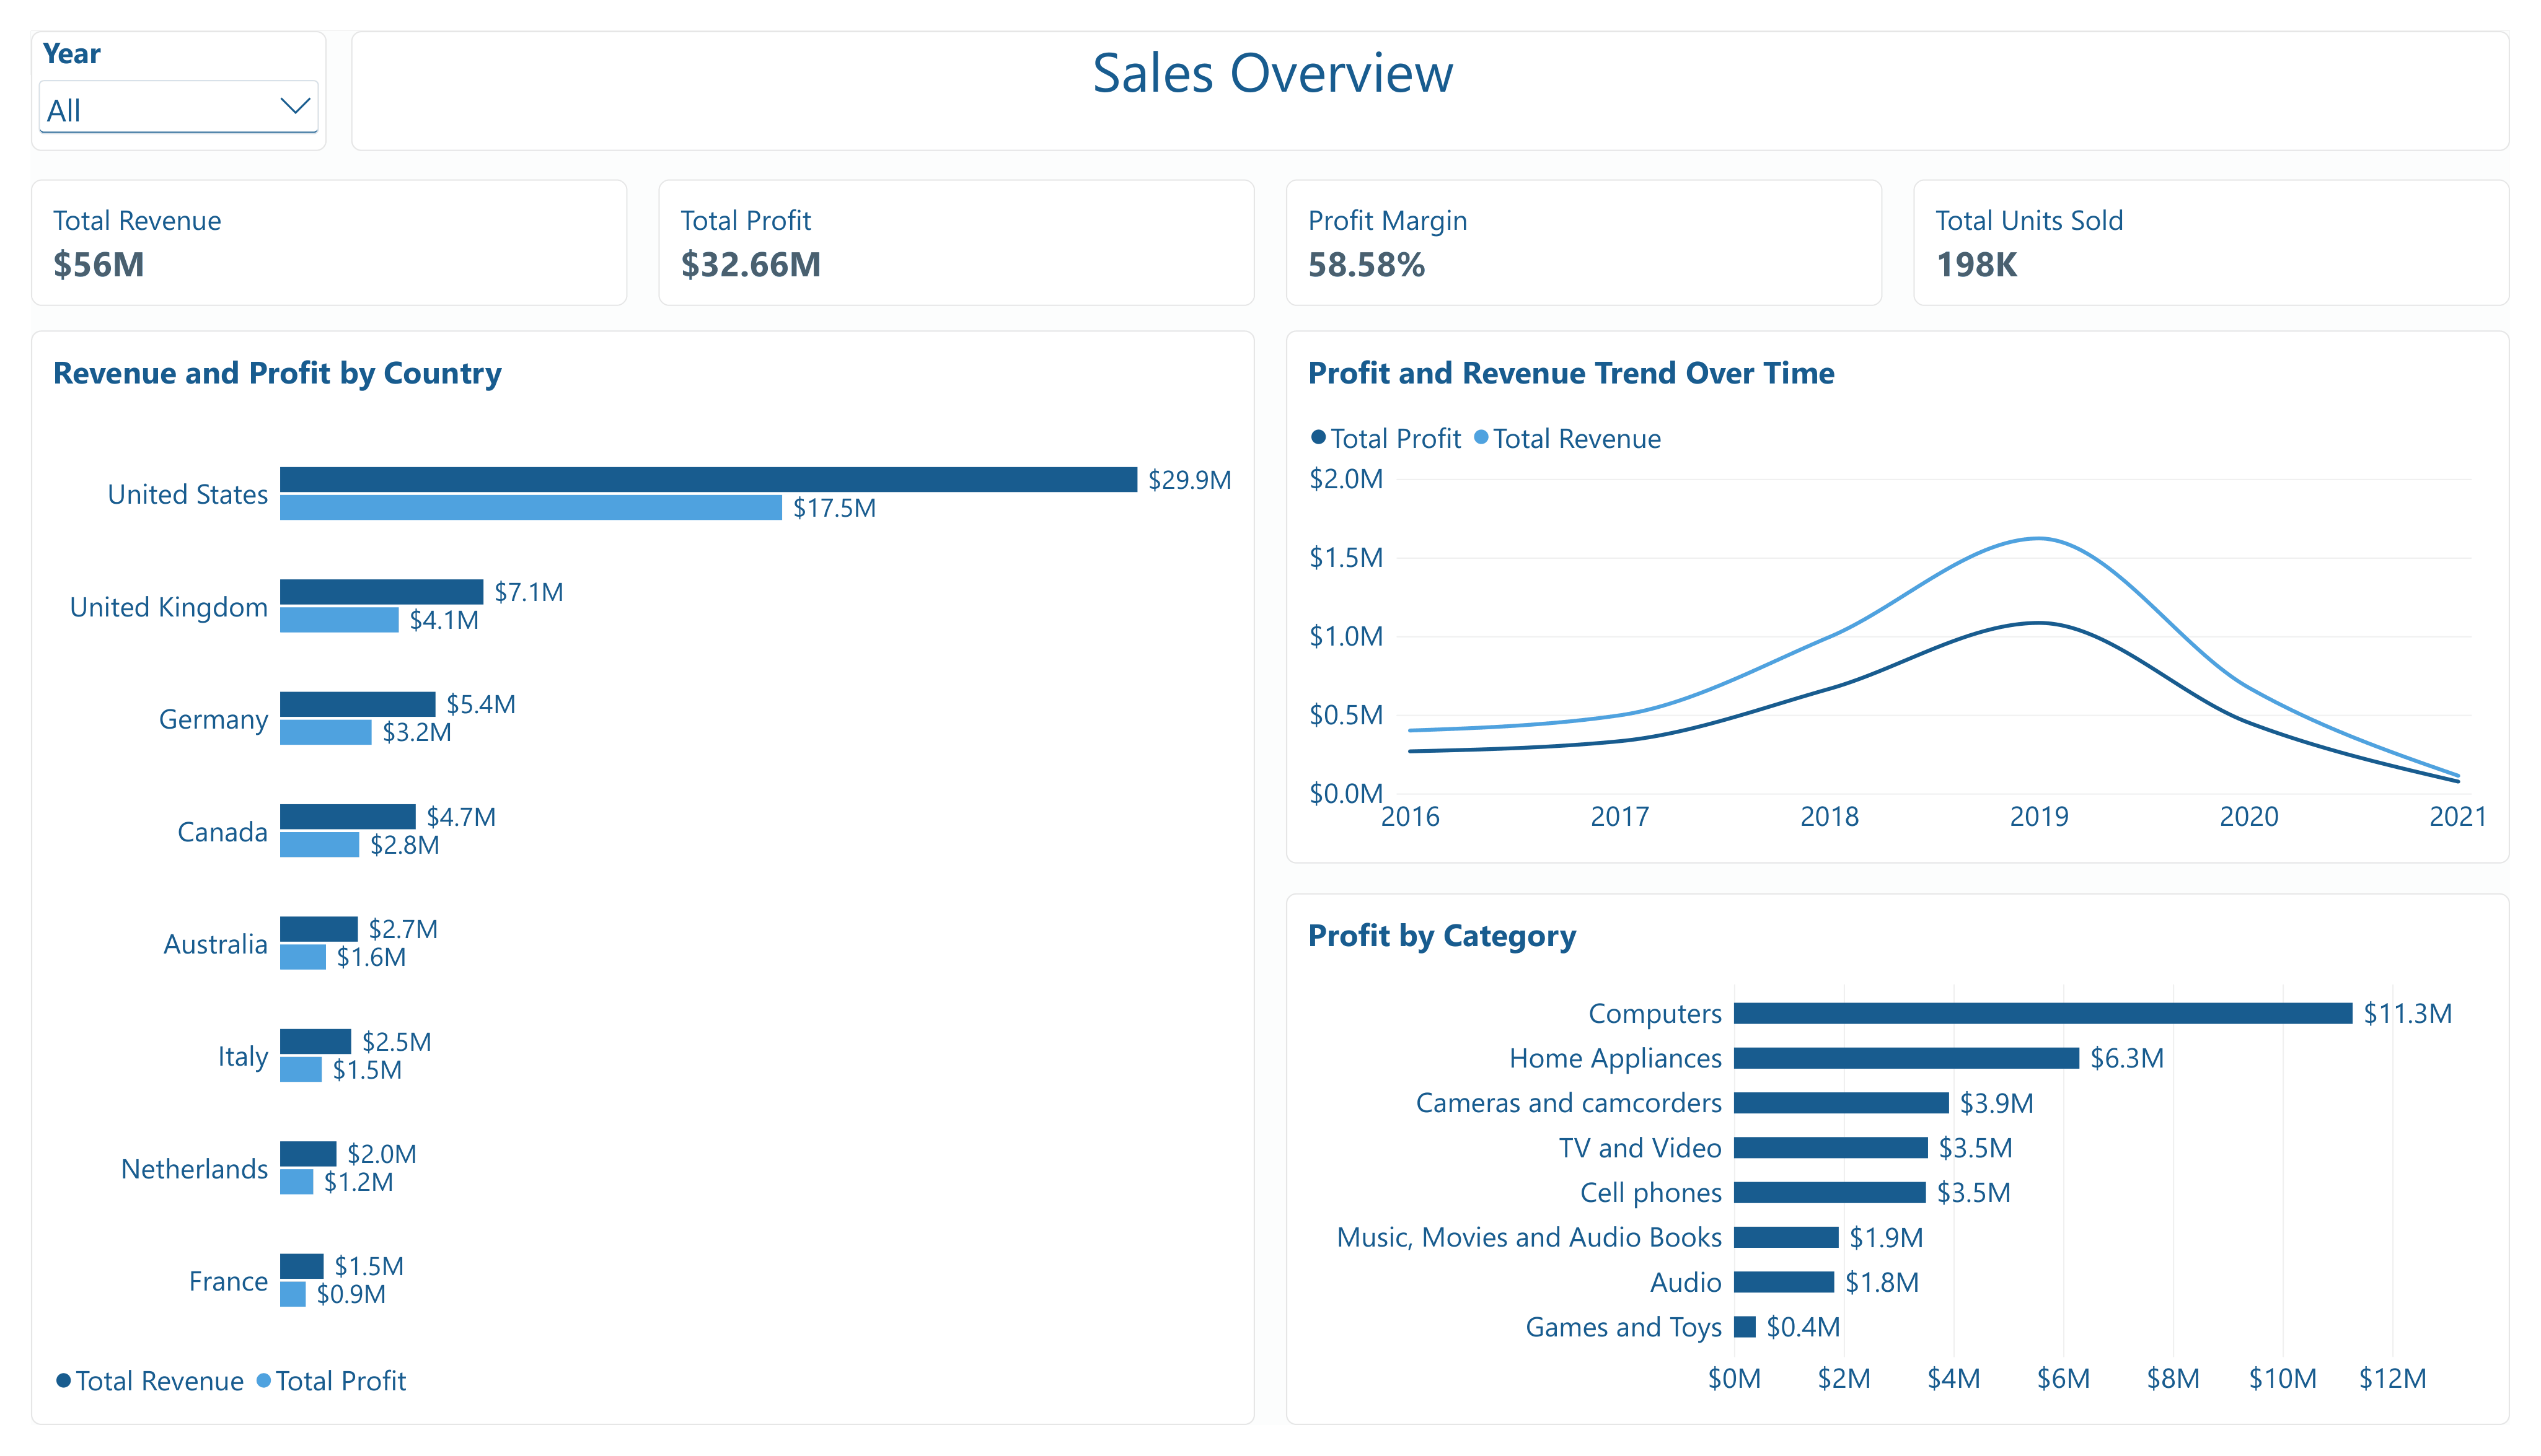

The page's visual inventory and layout, read from the dashboard file:
{"tool":"powerbi","page":{"name":"Sales Overview","canvas":[1920,1080],"ordinal":0},"visuals":[{"type":"cardVisual","fields":{"Data":["_Mesures.Profit Margin"]},"box":[971.8,115.2,462.3,97.5],"z":0},{"type":"cardVisual","fields":{"Data":["_Mesures.Total Profit"]},"box":[485.9,115.2,462.3,97.5],"z":1000},{"type":"cardVisual","fields":{"Data":["_Mesures.Total Revenue"]},"box":[0,115.2,462.3,97.5],"z":2000},{"type":"cardVisual","fields":{"Data":["_Mesures.Total Units Sold"]},"box":[1457.7,115.2,462.3,97.5],"z":3000},{"type":"clusteredBarChart","title":"Revenue and Profit by Country","fields":{"Category":["Customers.Country"],"Y":["_Mesures.Total Revenue","_Mesures.Total Profit"]},"box":[0,231.9,948.2,847.8],"z":4000},{"type":"clusteredBarChart","title":"Profit by Category","fields":{"Category":["Products.Category"],"Y":["_Mesures.Total Profit"]},"box":[972.3,668.4,947.2,411.6],"z":5000},{"type":"lineChart","title":"Profit and Revenue Trend Over Time","fields":{"Category":["DateTable.Year Hierarchy.Year","DateTable.Year Hierarchy.Quarter","DateTable.Year Hierarchy.Month","DateTable.Year Hierarchy.Date"],"Y":["_Mesures.Total Profit","_Mesures.Total Revenue"]},"box":[972.3,231.6,947.2,413.1],"z":6000},{"type":"textbox","box":[248.1,0,1671.9,93],"z":7000},{"type":"slicer","fields":{"Values":["DateTable.Year Hierarchy.Year"]},"box":[0,0,228.9,93],"z":8000}]}

Visuals, with their boxes on the page's 1920x1080 design canvas (x1, y1, x2, y2). These are canvas units, not pixel positions in the 2541x1456 screenshot, which may show the page scaled, cropped or inside an application window:
cardVisual - _Mesures.Profit Margin: pyautogui.locateOnScreen(972, 115, 1434, 213)
cardVisual - _Mesures.Total Profit: pyautogui.locateOnScreen(486, 115, 948, 213)
cardVisual - _Mesures.Total Revenue: pyautogui.locateOnScreen(0, 115, 462, 213)
cardVisual - _Mesures.Total Units Sold: pyautogui.locateOnScreen(1458, 115, 1920, 213)
"Revenue and Profit by Country" clusteredBarChart: pyautogui.locateOnScreen(0, 232, 948, 1080)
"Profit by Category" clusteredBarChart: pyautogui.locateOnScreen(972, 668, 1920, 1080)
"Profit and Revenue Trend Over Time" lineChart: pyautogui.locateOnScreen(972, 232, 1920, 645)
textbox: pyautogui.locateOnScreen(248, 0, 1920, 93)
slicer - DateTable.Year Hierarchy.Year: pyautogui.locateOnScreen(0, 0, 229, 93)
